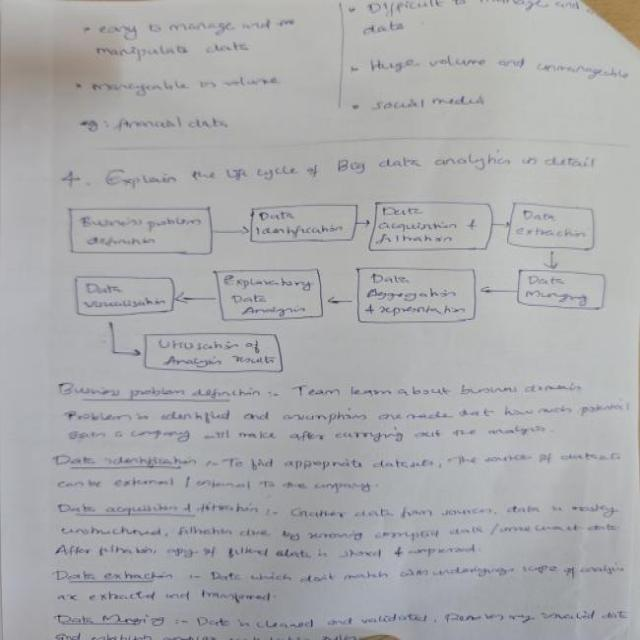Figure Detection - v3 Dataset Version2: (55, 189, 624, 377)
